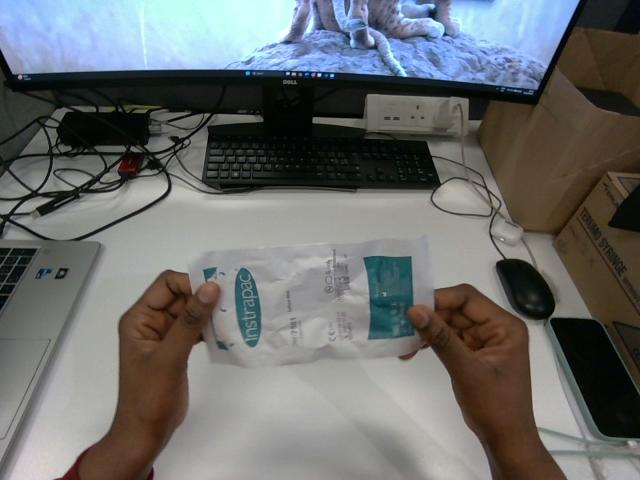gallipot: (189, 237, 433, 366)
